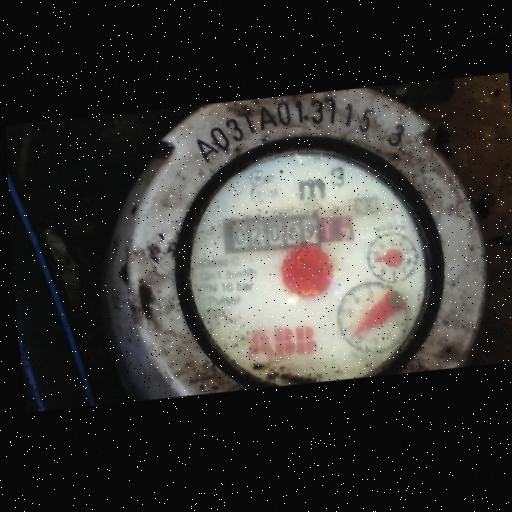0: (265, 218, 286, 247), (231, 222, 250, 250)
1: (318, 217, 337, 243)
2: (247, 220, 268, 248), (334, 214, 354, 242)
6: (283, 217, 304, 245)
9: (300, 216, 321, 244)
border_water_meter_number: (222, 205, 356, 258)
